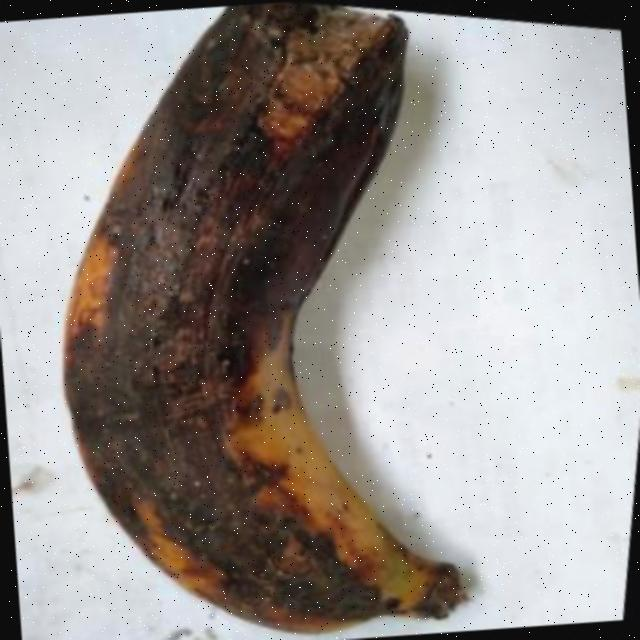Rotten: (5, 0, 520, 640)
